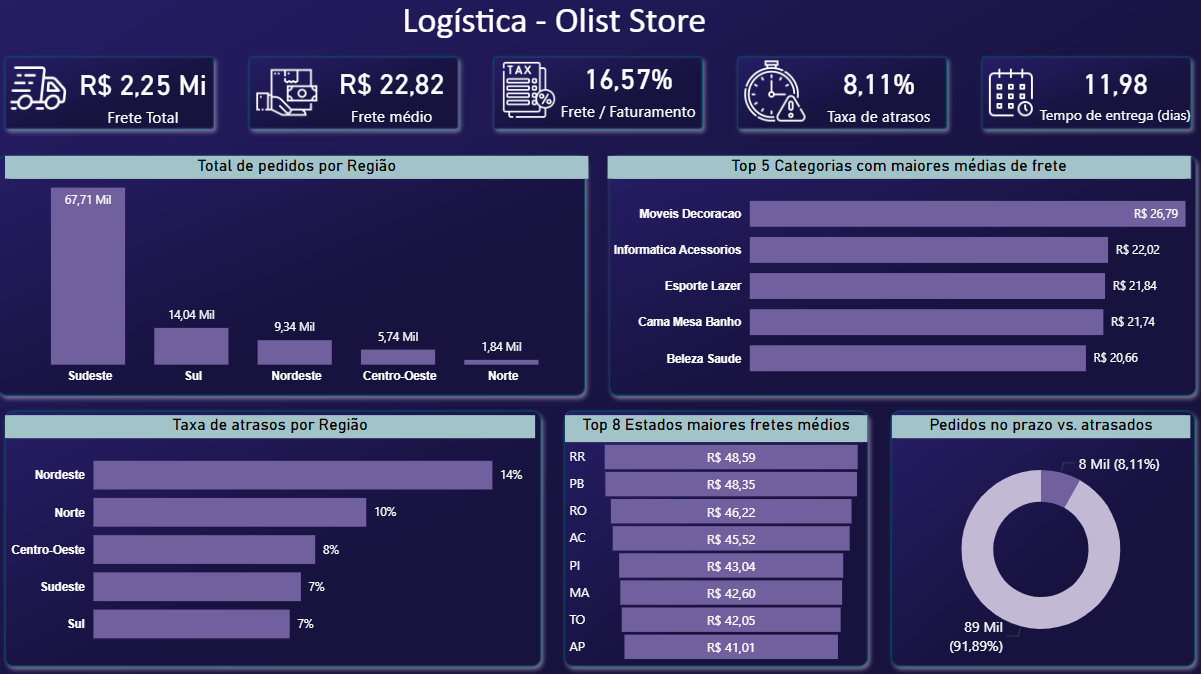

The page's visual inventory and layout, read from the dashboard file:
{"tool":"powerbi","page":{"name":"Logistica","canvas":[1280,720],"ordinal":1},"visuals":[{"type":"card","fields":{"Values":["Medidas.Frete Total"]},"box":[83.3,66.7,165,75],"z":0},{"type":"card","fields":{"Values":["Medidas.Frete médio"]},"box":[355,65,140,76.7],"z":1000},{"type":"card","fields":{"Values":["Medidas.% pago de frete"]},"box":[581,57,169,84],"z":2000},{"type":"card","fields":{"Values":["Medidas.media de tempo de entrega"]},"box":[1083.3,65,181.7,75],"z":3000},{"type":"image","box":[25,66.7,66.6,63.3],"z":4000},{"type":"image","box":[275,71.7,80,63.3],"z":5000},{"type":"image","box":[526,71,67,60],"z":6000},{"type":"image","box":[788.3,70,65,63.3],"z":7000},{"type":"barChart","title":"Taxa de Atrasos por Região","fields":{"Category":["Regioes.Região"],"Y":["Medidas.Taxa de atrasos"]},"box":[23.3,438.3,550,253.3],"z":8000},{"type":"columnChart","title":"Total de Pedidos por Região","fields":{"Category":["Regioes.Região"],"Y":["Medidas.Pedidos totais"]},"box":[23.3,168.3,605,245],"z":9000},{"type":"barChart","title":"Top 5 Categorias com Maiores Médias de Frete","fields":{"Category":["categorias.Categoria"],"Y":["Medidas.Frete médio"]},"box":[648.3,168.3,605,245],"z":10000},{"type":"funnel","title":"Top 8 Estados Maiores Fretes Médios ","fields":{"Category":["Regioes.Estados"],"Y":["Medidas.Frete médio"]},"box":[603,438,314,261],"z":11000},{"type":"textbox","box":[336.1,0,513.1,59],"z":12000},{"type":"donutChart","title":"Pedidos no prazo vs. atrasados","fields":{"Y":["Medidas.Pedidos Atrasados","Medidas.Pedidos Entregues no prazo"]},"box":[943.3,438.3,310,260],"z":13000},{"type":"card","fields":{"Values":["Medidas.Taxa de atrasos"]},"box":[853.3,61.7,153.3,81.7],"z":14000},{"type":"image","box":[1033.3,71.7,65,63.3],"z":15000}]}

Visuals, with their boxes in screenshot pixels (x1, y1, x2, y2), scaled from the page's 1280x720 canvas onto the 1201x674 screenshot:
card - Medidas.Frete Total: 78 62 233 133
card - Medidas.Frete médio: 333 61 464 133
card - Medidas.% pago de frete: 545 53 704 132
card - Medidas.media de tempo de entrega: 1016 61 1187 131
image: 23 62 86 122
image: 258 67 333 126
image: 494 66 556 123
image: 740 66 801 125
"Taxa de Atrasos por Região" barChart: 22 410 538 647
"Total de Pedidos por Região" columnChart: 22 158 590 387
"Top 5 Categorias com Maiores Médias de Frete" barChart: 608 158 1176 387
"Top 8 Estados Maiores Fretes Médios " funnel: 566 410 860 654
textbox: 315 0 797 55
"Pedidos no prazo vs. atrasados" donutChart: 885 410 1176 654
card - Medidas.Taxa de atrasos: 801 58 944 134
image: 970 67 1031 126
